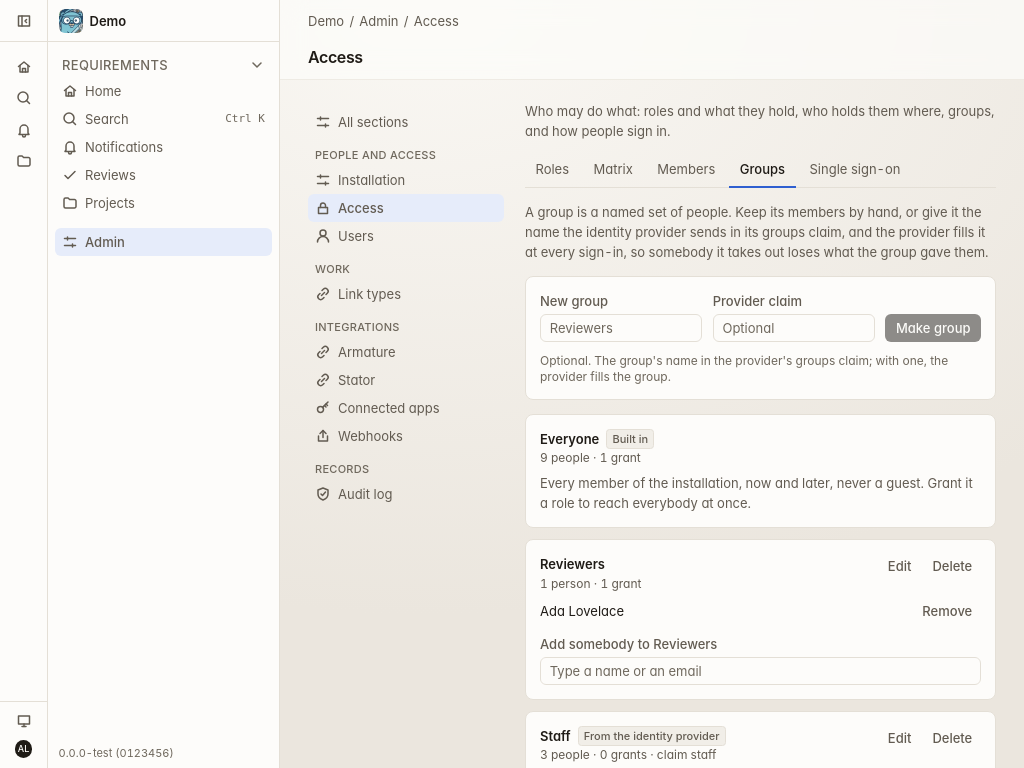
Test: the Groups tab › takes somebody out of a group kept by hand once asked
Click the button with aria-label "Remove Ada Lovelace" at (947, 611), box top-left (914, 598), bottom-right (981, 623)
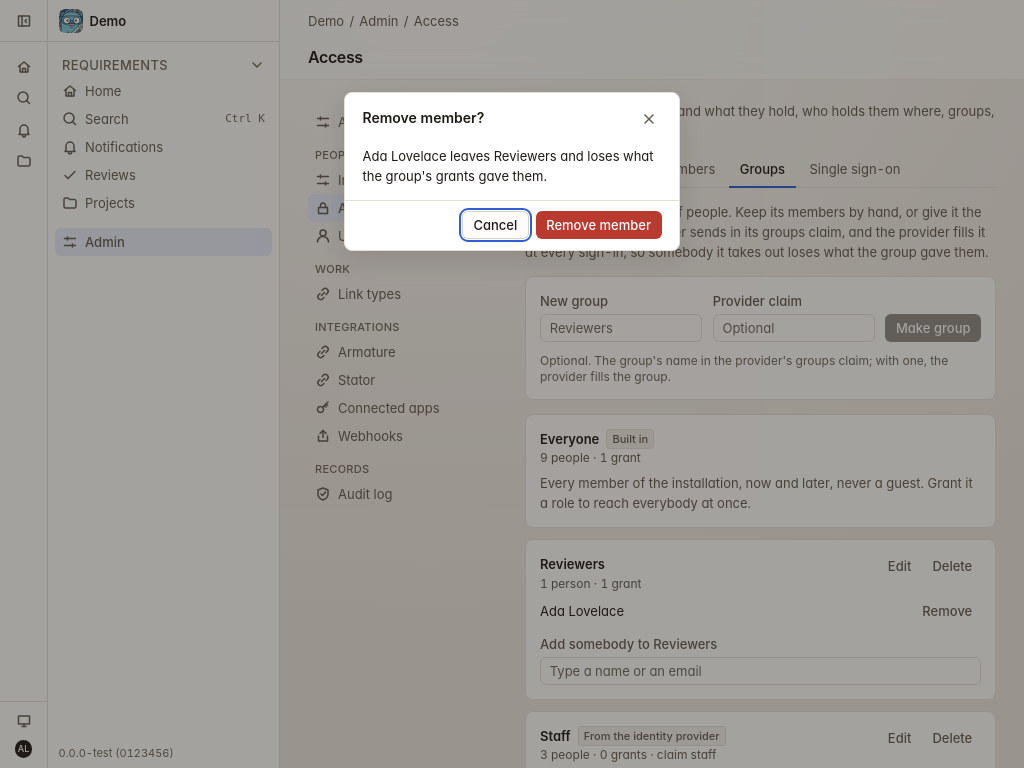
Result: the dialog is shown at top-left (344, 92), bottom-right (680, 251)
Click the button "Remove member" at (599, 225), box top-left (536, 211), bottom-right (662, 239)
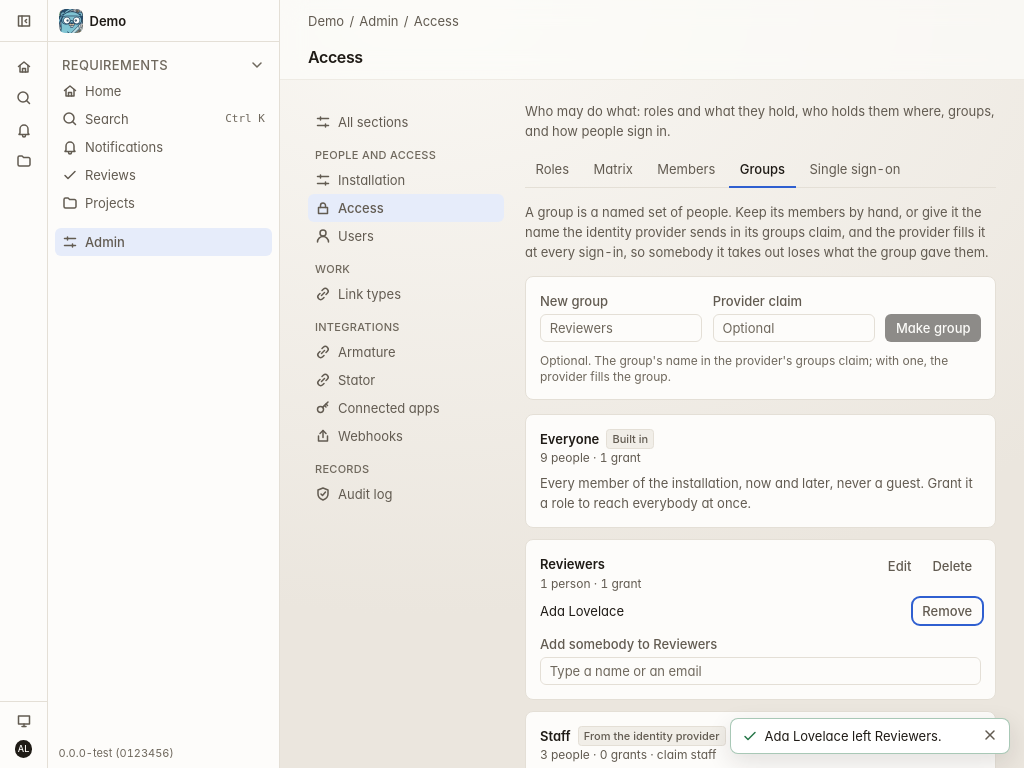
Result: the text "Ada Lovelace left Reviewers." is shown at top-left (764, 726), bottom-right (970, 746)
